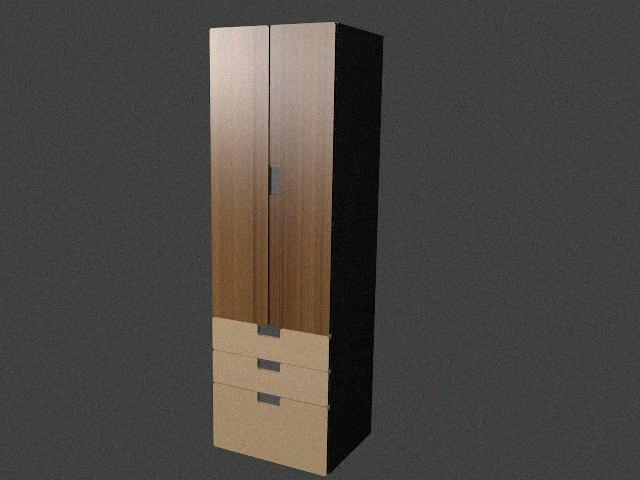cabinet_door: (270, 23, 332, 331), (210, 26, 270, 320), (213, 395, 327, 462), (212, 326, 329, 361), (212, 361, 328, 395)
handle: (269, 166, 284, 196), (258, 326, 281, 339), (256, 359, 280, 370), (259, 395, 280, 405)
